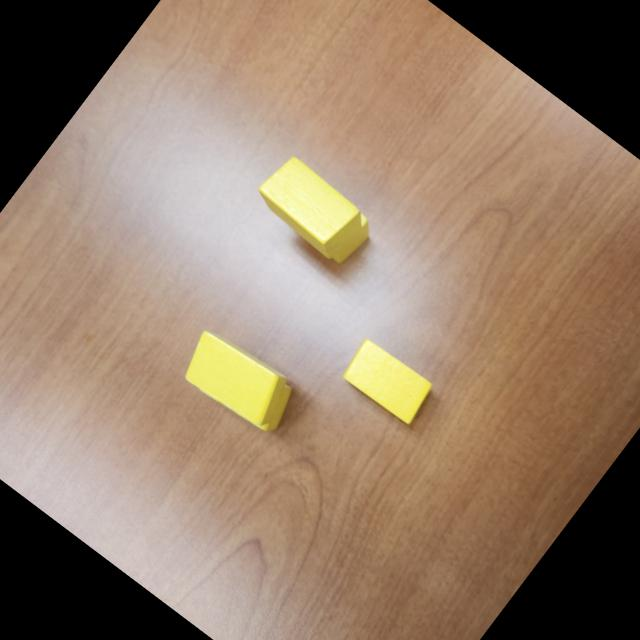yellow: (172, 320, 297, 436), (250, 150, 372, 264), (197, 342, 303, 442), (336, 334, 439, 430), (311, 200, 378, 269)
